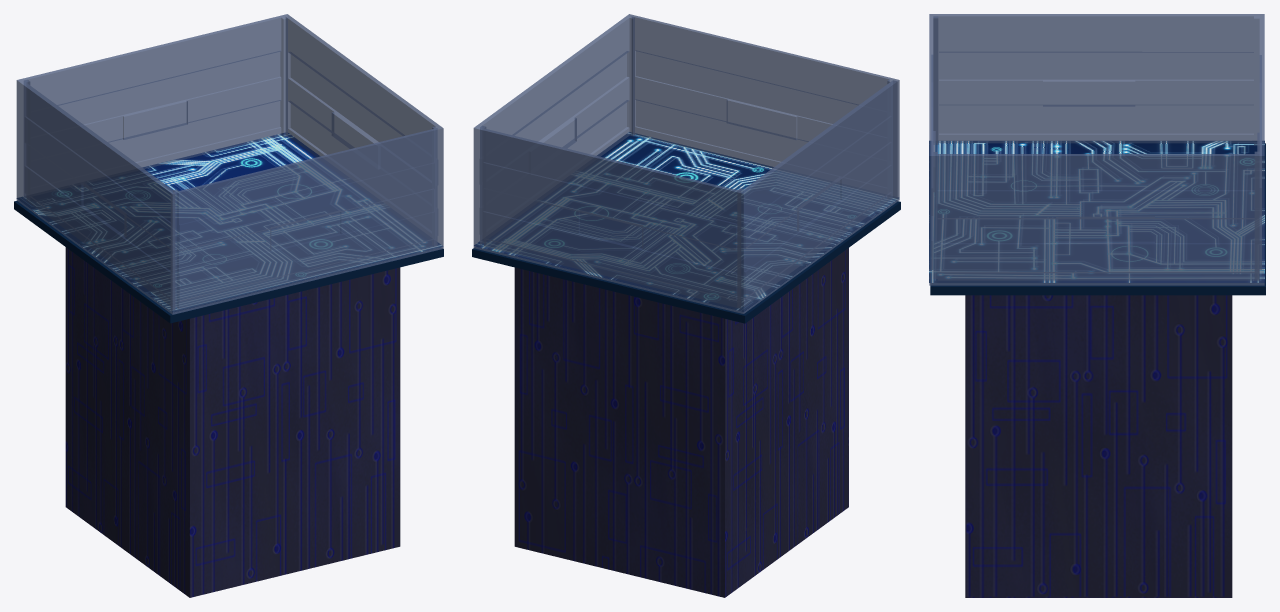
File: Stage.fbx
The picture shows the model from 3 angles, left to right: view 1: azimuth 30°, elevation 25°; view 2: azimuth 150°, elevation 25°; view 3: azimuth 270°, elevation 25°; orthographic projection. The views are drawn at different scales.
Visible parts, largest first — view 1: dodai, kabe, yuka, pCube17; view 2: dodai, kabe, yuka, pCube17; view 3: kabe, dodai, yuka, pCube17.
Boxes of the visible parts, x1=… form: dodai: x1=65, y1=247, x2=400, y2=597; kabe: x1=16, y1=14, x2=443, y2=314; yuka: x1=16, y1=133, x2=443, y2=312; pCube17: x1=14, y1=201, x2=443, y2=323; dodai: x1=514, y1=248, x2=848, y2=597; kabe: x1=473, y1=14, x2=899, y2=313; yuka: x1=474, y1=132, x2=898, y2=311; pCube17: x1=472, y1=201, x2=900, y2=323; kabe: x1=929, y1=14, x2=1264, y2=285; dodai: x1=965, y1=295, x2=1232, y2=597; yuka: x1=929, y1=140, x2=1264, y2=282; pCube17: x1=930, y1=143, x2=1265, y2=295.
Bounding box in the file's own units: 614 × 910 × 610.
4 materials, 2 textured.
